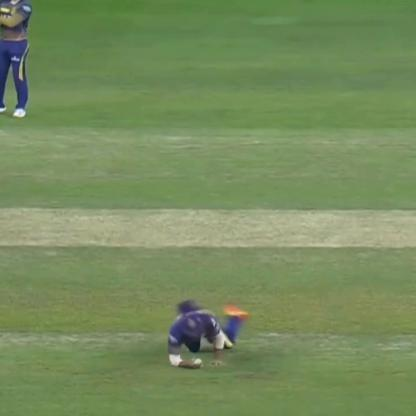ball: (192, 357, 203, 366)
